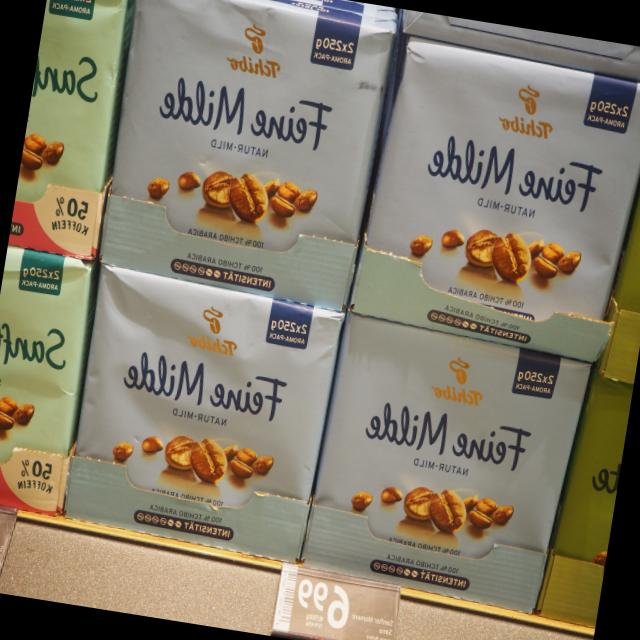FM Gemahlen: (348, 31, 640, 362), (97, 0, 401, 316), (299, 309, 594, 618), (60, 260, 350, 563)
